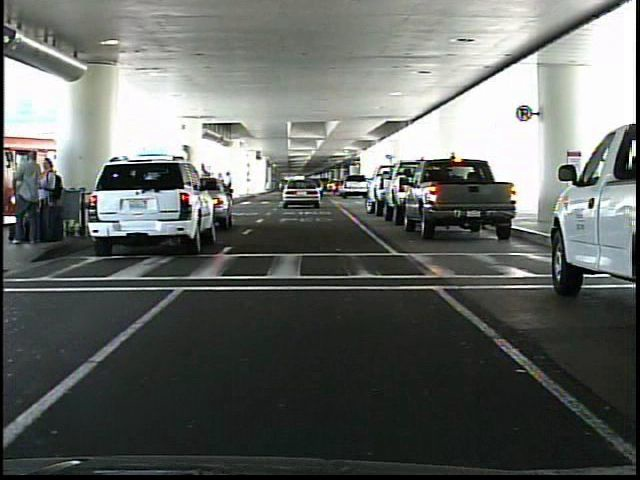person: (14, 148, 48, 245), (40, 157, 66, 246)
